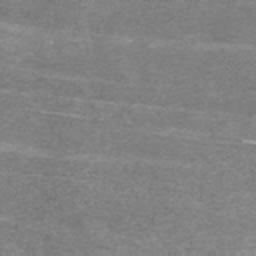Finishing roll printing: (0, 22, 256, 53), (64, 96, 235, 121), (0, 146, 192, 168), (38, 110, 100, 121)
